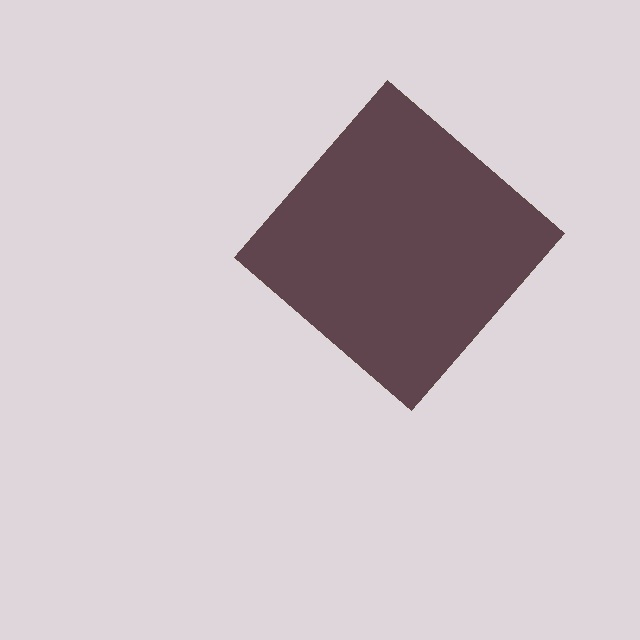square: (233, 79, 564, 410)
